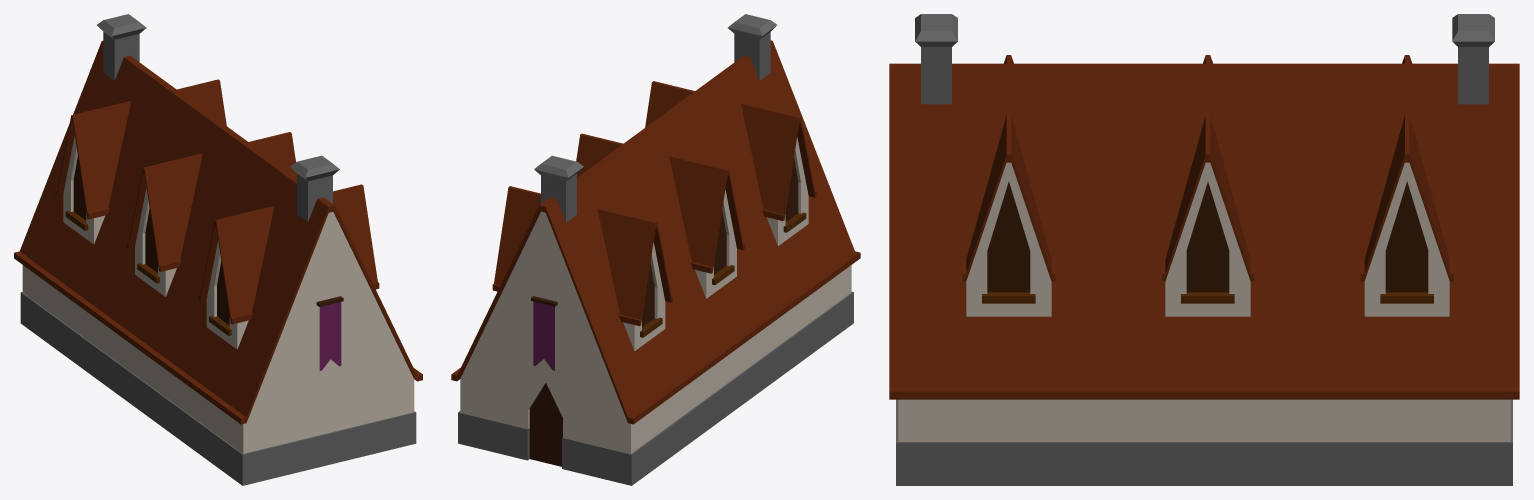
The model's file is EstateV3.fbx.
3 renders of one model, left to right at view 1: azimuth 30°, elevation 25°; view 2: azimuth 150°, elevation 25°; view 3: azimuth 270°, elevation 25°, orthographic. The views are drawn at different scales.
Parts seen in each view (by area): view 1: Plane.1300; view 2: Plane.1300; view 3: Plane.1300.
Boxes of the visible parts, x1=… form: Plane.1300: x1=14, y1=14, x2=422, y2=485; Plane.1300: x1=451, y1=14, x2=860, y2=485; Plane.1300: x1=889, y1=14, x2=1519, y2=485.
Size of the model in its own units: 131 by 200 by 283.
